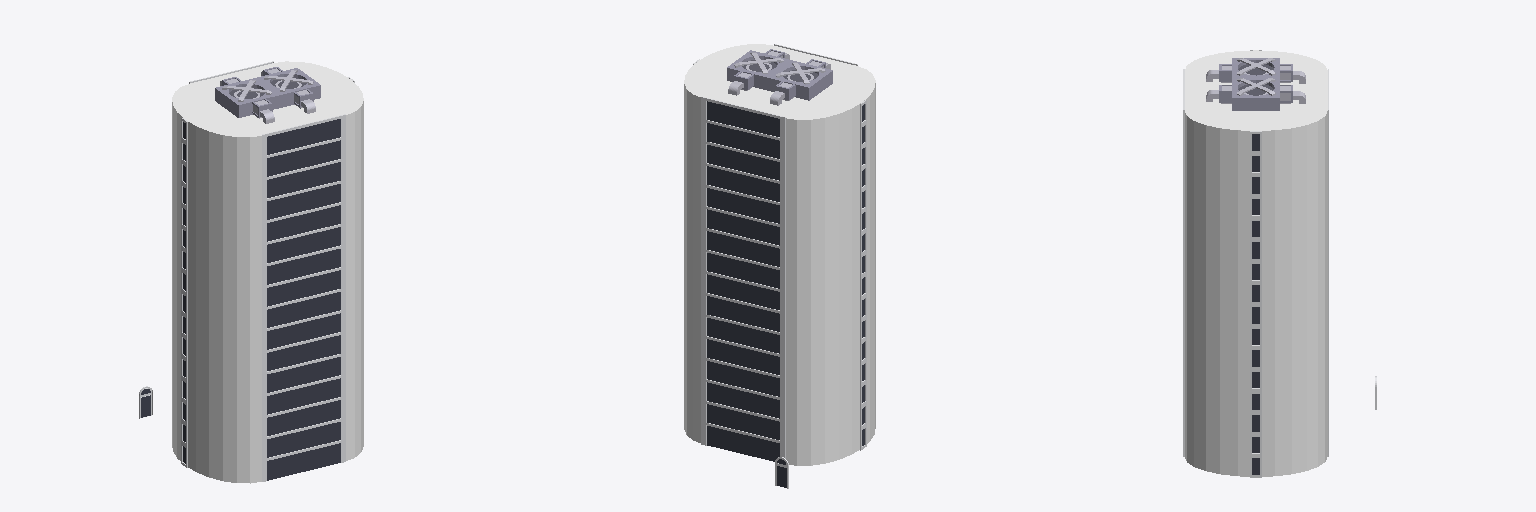
The picture shows the model from 3 angles: view 1: azimuth 30°, elevation 25°; view 2: azimuth 150°, elevation 25°; view 3: azimuth 270°, elevation 25°; orthographic projection.
Parts seen in each view (by area): view 1: cylinder_half_22, cylinder_half_25, block_default_24, garage_wide_46, garage_wide_48, garage_wide_58, garage_wide_47, garage_wide_61, garage_wide_53, garage_wide_51, garage_wide_52, garage_wide_57 (+9 smaller); view 2: cylinder_half_22, cylinder_half_25, block_default_24, garage_wide_28, garage_wide_42, garage_wide_34, garage_wide_36, garage_wide_41, garage_wide_43, garage_wide_40, garage_wide_31, garage_wide_33 (+9 smaller); view 3: cylinder_half_25, block_default_24, detail_airHuge_100, cylinder_half_22, detail_airHuge_99.
Boxes of the visible parts, <box> form: cylinder_half_22: <box>172,83,261,483</box>; cylinder_half_25: <box>274,61,363,460</box>; block_default_24: <box>191,63,343,134</box>; garage_wide_46: <box>262,440,345,481</box>; garage_wide_48: <box>262,114,345,157</box>; garage_wide_58: <box>262,353,345,395</box>; garage_wide_47: <box>262,418,345,459</box>; garage_wide_61: <box>262,288,345,330</box>; garage_wide_53: <box>262,223,345,265</box>; garage_wide_51: <box>262,180,345,221</box>; garage_wide_52: <box>262,202,345,244</box>; garage_wide_57: <box>262,374,345,417</box>; cylinder_half_22: <box>786,66,875,465</box>; cylinder_half_25: <box>684,44,772,442</box>; block_default_24: <box>705,46,855,117</box>; garage_wide_28: <box>701,422,785,461</box>; garage_wide_42: <box>701,97,785,139</box>; garage_wide_34: <box>701,358,785,399</box>; garage_wide_36: <box>701,292,785,334</box>; garage_wide_41: <box>701,184,785,226</box>; garage_wide_43: <box>701,141,785,183</box>; garage_wide_40: <box>701,205,785,248</box>; garage_wide_31: <box>701,400,785,441</box>; garage_wide_33: <box>701,336,785,376</box>; cylinder_half_25: <box>1185,111,1327,476</box>; block_default_24: <box>1185,71,1327,110</box>; detail_airHuge_100: <box>1232,78,1279,110</box>; cylinder_half_22: <box>1185,50,1327,70</box>; detail_airHuge_99: <box>1232,58,1279,77</box>.
Size of the model in its own units: 4.06 by 8.36 by 4.06.